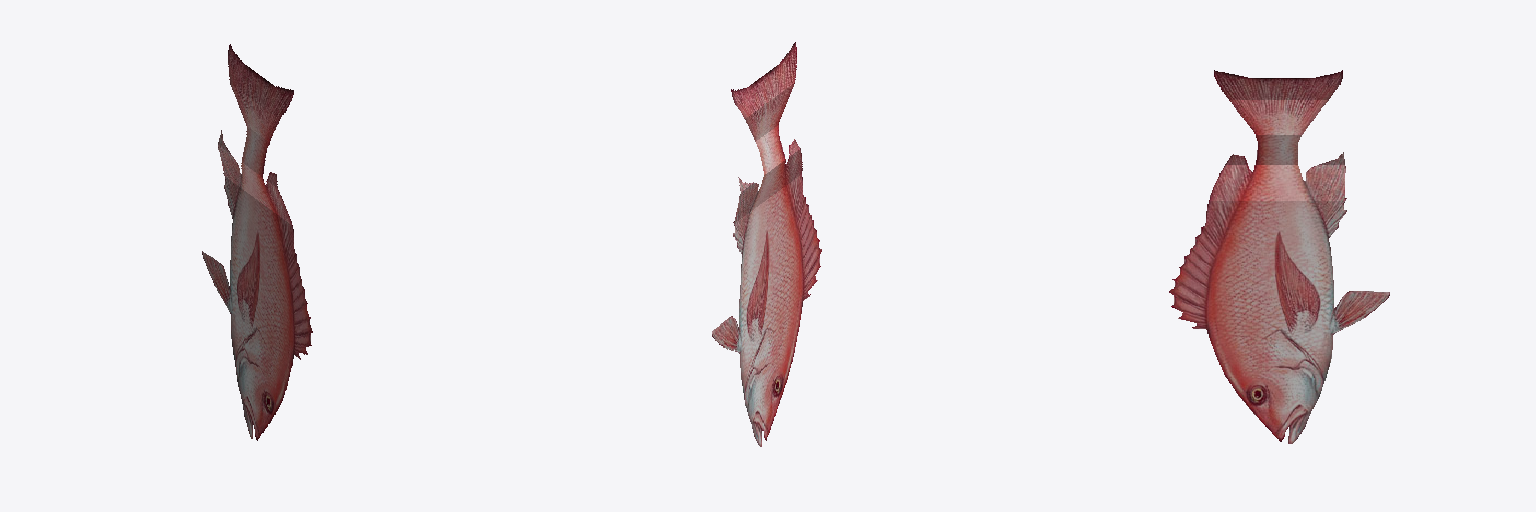
3 views of the same model, side by side, from view 1: azimuth 30°, elevation 25°; view 2: azimuth 150°, elevation 25°; view 3: azimuth 270°, elevation 25° (orthographic).
Size of the model in its own units: 0.0602 by 1.99 by 1.06.
1 materials, 1 textured.